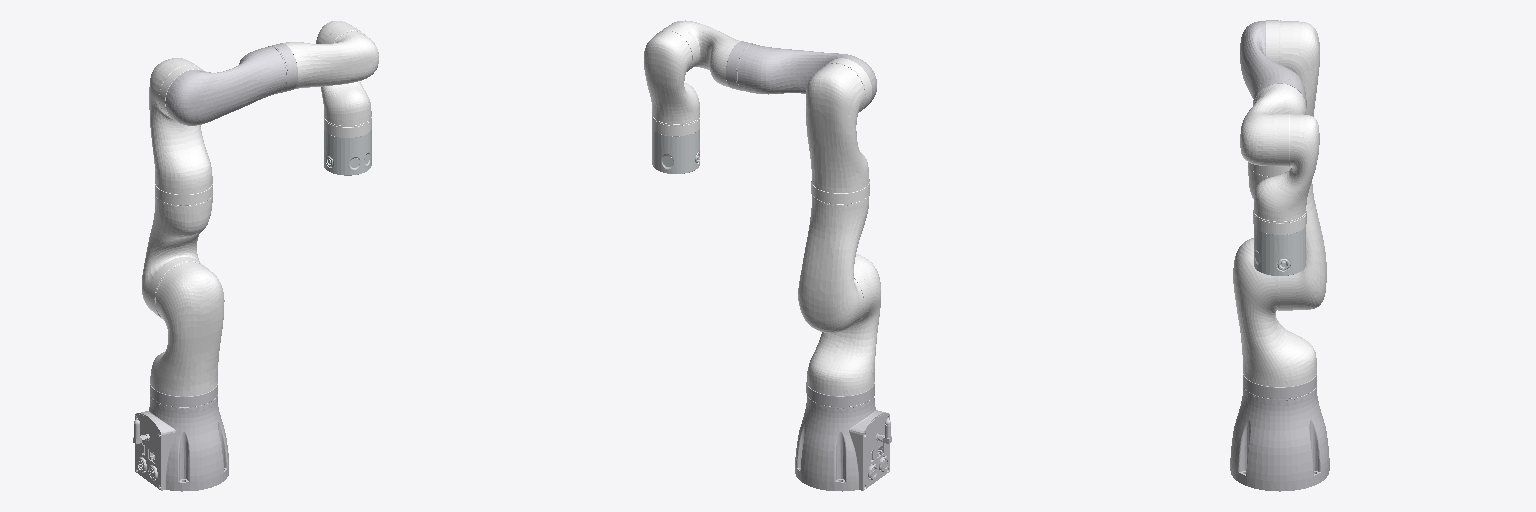
robot.urdf — TCB705_05N_urdf:
<?xml version="1.0" encoding="utf-8"?>
<!-- This URDF was automatically created by SolidWorks to URDF Exporter! Originally created by Stephen Brawner (brawner@gmail.com) 
     Commit Version: 1.6.0-1-g15f4949  Build Version: 1.6.7594.29634
     For more information, please see http://wiki.ros.org/sw_urdf_exporter -->
<robot
  name="TCB705_05N_urdf">
 <mujoco>
    <compiler meshdir="../meshes/" discardvisual="false"/>
 </mujoco>
  <link
    name="tl_robot_link0">
    <inertial>
      <origin
        xyz="0.0018902 -3.6902E-05 0.048157"
        rpy="0 0 0" />
      <mass
        value="0.43435" />
      <inertia
        ixx="0.00088719"
        ixy="7.0508E-09"
        ixz="3.8148E-05"
        iyy="0.00076562"
        iyz="1.1569E-07"
        izz="0.00087763" />
    </inertial>
    <visual>
      <origin
        xyz="0 0 0"
        rpy="0 0 0" />
      <geometry>
        <mesh
          filename="package://TCB705_05N_urdf/meshes/tl_robot_link0.STL" />
      </geometry>
      <material
        name="">
        <color
          rgba="0.86667 0.86667 0.8902 1" />
      </material>
    </visual>
    <collision>
      <origin
        xyz="0 0 0"
        rpy="0 0 0" />
      <geometry>
        <mesh
          filename="package://TCB705_05N_urdf/meshes/tl_robot_link0.STL" />
      </geometry>
    </collision>
  </link>
  <link
    name="tl_robot_link1">
    <inertial>
      <origin
        xyz="3.7218E-06 -0.014376 0.067933"
        rpy="0 0 0" />
      <mass
        value="0.14367" />
      <inertia
        ixx="0.00037046"
        ixy="1.6893E-08"
        ixz="-4.6083E-08"
        iyy="0.00039142"
        iyz="5.9077E-05"
        izz="0.00015862" />
    </inertial>
    <visual>
      <origin
        xyz="0 0 0"
        rpy="0 0 0" />
      <geometry>
        <mesh
          filename="package://TCB705_05N_urdf/meshes/tl_robot_link1.STL" />
      </geometry>
      <material
        name="">
        <color
          rgba="1 1 1 1" />
      </material>
    </visual>
    <collision>
      <origin
        xyz="0 0 0"
        rpy="0 0 0" />
      <geometry>
        <mesh
          filename="package://TCB705_05N_urdf/meshes/tl_robot_link1.STL" />
      </geometry>
    </collision>
  </link>
  <joint
    name="tl_robot_joint1"
    type="revolute">
    <origin
      xyz="0 0 0.1224"
      rpy="0 0 0" />
    <parent
      link="tl_robot_link0" />
    <child
      link="tl_robot_link1" />
    <axis
      xyz="0 0 1" />
    <limit
      lower="-3.141592654"
      upper="3.141592654"
      effort="0"
      velocity="0" />
  </joint>
  <link
    name="tl_robot_link2">
    <inertial>
      <origin
        xyz="5.9053E-06 -0.055346 0.0035842"
        rpy="0 0 0" />
      <mass
        value="0.33033" />
      <inertia
        ixx="0.00090573"
        ixy="1.3641E-08"
        ixz="-3.5043E-08"
        iyy="0.0003177"
        iyz="-0.00017413"
        izz="0.00093478" />
    </inertial>
    <visual>
      <origin
        xyz="0 0 0"
        rpy="0 0 0" />
      <geometry>
        <mesh
          filename="package://TCB705_05N_urdf/meshes/tl_robot_link2.STL" />
      </geometry>
      <material
        name="">
        <color
          rgba="1 1 1 1" />
      </material>
    </visual>
    <collision>
      <origin
        xyz="0 0 0"
        rpy="0 0 0" />
      <geometry>
        <mesh
          filename="package://TCB705_05N_urdf/meshes/tl_robot_link2.STL" />
      </geometry>
    </collision>
  </link>
  <joint
    name="tl_robot_joint2"
    type="revolute">
    <origin
      xyz="0 0.0155 0.1196"
      rpy="-1.5708 0 0" />
    <parent
      link="tl_robot_link1" />
    <child
      link="tl_robot_link2" />
    <axis
      xyz="0 0 1" />
    <limit
      lower="-2.35619449"
      upper="2.35619449"
      effort="0"
      velocity="0" />
  </joint>
  <link
    name="tl_robot_link3">
    <inertial>
      <origin
        xyz="-0.000132757352653707 0.0133462171351898 0.0637589760194879"
        rpy="0 0 0" />
      <mass
        value="0.302012540986821" />
      <inertia
        ixx="0.000691869705790603"
        ixy="-5.09561031816092E-07"
        ixz="2.6670085177538E-06"
        iyy="0.000719388437057822"
        iyz="-0.000114231544456731"
        izz="0.000253132686095938" />
    </inertial>
    <visual>
      <origin
        xyz="0 0 0"
        rpy="0 0 0" />
      <geometry>
        <mesh
          filename="package://TCB705_05N_urdf/meshes/tl_robot_link3.STL" />
      </geometry>
      <material
        name="">
        <color
          rgba="1 1 1 1" />
      </material>
    </visual>
    <collision>
      <origin
        xyz="0 0 0"
        rpy="0 0 0" />
      <geometry>
        <mesh
          filename="package://TCB705_05N_urdf/meshes/tl_robot_link3.STL" />
      </geometry>
    </collision>
  </link>
  <joint
    name="tl_robot_joint3"
    type="revolute">
    <origin
      xyz="0 -0.149 -0.0155"
      rpy="1.5708 0 0" />
    <parent
      link="tl_robot_link2" />
    <child
      link="tl_robot_link3" />
    <axis
      xyz="0 0 1" />
    <limit
      lower="-3.141592654"
      upper="3.141592654"
      effort="0"
      velocity="0" />
  </joint>
  <link
    name="tl_robot_link4">
    <inertial>
      <origin
        xyz="-1.1919E-05 0.056456 0.00097888"
        rpy="0 0 0" />
      <mass
        value="0.24893" />
      <inertia
        ixx="0.0005647"
        ixy="8.1382E-08"
        ixz="-3.1473E-09"
        iyy="0.00016557"
        iyz="0.00010863"
        izz="0.00057614" />
    </inertial>
    <visual>
      <origin
        xyz="0 0 0"
        rpy="0 0 0" />
      <geometry>
        <mesh
          filename="package://TCB705_05N_urdf/meshes/tl_robot_link4.STL" />
      </geometry>
      <material
        name="">
        <color
          rgba="0.86667 0.86667 0.8902 1" />
      </material>
    </visual>
    <collision>
      <origin
        xyz="0 0 0"
        rpy="0 0 0" />
      <geometry>
        <mesh
          filename="package://TCB705_05N_urdf/meshes/tl_robot_link4.STL" />
      </geometry>
    </collision>
  </link>
  <joint
    name="tl_robot_joint4"
    type="revolute">
    <origin
      xyz="0 -0.0165 0.121"
      rpy="1.5708 1.5708 0" />
    <parent
      link="tl_robot_link3" />
    <child
      link="tl_robot_link4" />
    <axis
      xyz="0 0 -1" />
    <limit
      lower="-4.101523742"
      upper="0.959931089"
      effort="0"
      velocity="0" />
  </joint>
  <link
    name="tl_robot_link5">
    <inertial>
      <origin
        xyz="7.3099E-05 -0.01274 0.050866"
        rpy="0 0 0" />
      <mass
        value="0.074325" />
      <inertia
        ixx="9.8328E-05"
        ixy="1.1534E-08"
        ixz="8.0626E-10"
        iyy="0.00010098"
        iyz="2.0685E-05"
        izz="4.5428E-05" />
    </inertial>
    <visual>
      <origin
        xyz="0 0 0"
        rpy="0 0 0" />
      <geometry>
        <mesh
          filename="package://TCB705_05N_urdf/meshes/tl_robot_link5.STL" />
      </geometry>
      <material
        name="">
        <color
          rgba="1 1 1 1" />
      </material>
    </visual>
    <collision>
      <origin
        xyz="0 0 0"
        rpy="0 0 0" />
      <geometry>
        <mesh
          filename="package://TCB705_05N_urdf/meshes/tl_robot_link5.STL" />
      </geometry>
    </collision>
  </link>
  <joint
    name="tl_robot_joint5"
    type="revolute">
    <origin
      xyz="0 0.1425 -0.0165"
      rpy="-1.5708 0 0" />
    <parent
      link="tl_robot_link4" />
    <child
      link="tl_robot_link5" />
    <axis
      xyz="0 0 1" />
    <limit
      lower="-3.141592654"
      upper="3.141592654"
      effort="0"
      velocity="0" />
  </joint>
  <link
    name="tl_robot_link6">
    <inertial>
      <origin
        xyz="2.8242E-06 -0.038846 0.0038434"
        rpy="0 0 0" />
      <mass
        value="0.066035" />
      <inertia
        ixx="8.4574E-05"
        ixy="-2.4508E-08"
        ixz="-1.1793E-08"
        iyy="4.1686E-05"
        iyz="-1.7128E-05"
        izz="8.4254E-05" />
    </inertial>
    <visual>
      <origin
        xyz="0 0 0"
        rpy="0 0 0" />
      <geometry>
        <mesh
          filename="package://TCB705_05N_urdf/meshes/tl_robot_link6.STL" />
      </geometry>
      <material
        name="">
        <color
          rgba="1 1 1 1" />
      </material>
    </visual>
    <collision>
      <origin
        xyz="0 0 0"
        rpy="0 0 0" />
      <geometry>
        <mesh
          filename="package://TCB705_05N_urdf/meshes/tl_robot_link6.STL" />
      </geometry>
    </collision>
  </link>
  <joint
    name="tl_robot_joint6"
    type="revolute">
    <origin
      xyz="0 0.0115 0.0875"
      rpy="-1.5708 1.5708 0" />
    <parent
      link="tl_robot_link5" />
    <child
      link="tl_robot_link6" />
    <axis
      xyz="0 0 1" />
    <limit
      lower="-3.752457892"
      upper="0.610865238"
      effort="0"
      velocity="0" />
  </joint>
  <link
    name="tl_robot_link7">
    <inertial>
      <origin
        xyz="-1.0794E-05 -0.00010862 0.02885"
        rpy="0 0 0" />
      <mass
        value="0.16704" />
      <inertia
        ixx="8.1122E-05"
        ixy="2.2269E-07"
        ixz="-4.7782E-09"
        iyy="8.2788E-05"
        iyz="1.8211E-07"
        izz="9.2705E-05" />
    </inertial>
    <visual>
      <origin
        xyz="0 0 0"
        rpy="0 0 0" />
      <geometry>
        <mesh
          filename="package://TCB705_05N_urdf/meshes/tl_robot_link7.STL" />
      </geometry>
      <material
        name="">
        <color
          rgba="0.89804 0.91765 0.92941 1" />
      </material>
    </visual>
    <collision>
      <origin
        xyz="0 0 0"
        rpy="0 0 0" />
      <geometry>
        <mesh
          filename="package://TCB705_05N_urdf/meshes/tl_robot_link7.STL" />
      </geometry>
    </collision>
  </link>
  <joint
    name="tl_robot_joint7"
    type="revolute">
    <origin
      xyz="0 -0.1015 -0.0115"
      rpy="1.5708 0 0" />
    <parent
      link="tl_robot_link6" />
    <child
      link="tl_robot_link7" />
    <axis
      xyz="0 0 1" />
    <limit
      lower="-3.141592654"
      upper="3.141592654"
      effort="0"
      velocity="0" />
  </joint>

  <!-- 修正末端180度偏差的虚拟关节和连杆 -->
  <joint
      name="tl_robot_joint_end"
      type="fixed">
      <origin
          xyz="0 0 0"
          rpy="0 0 -3.141592654" />  <!-- 绕Z轴旋转180度修正 -->
      <parent
          link="tl_robot_link7" />
      <child
          link="tl_robot_link_end" />
      <axis
          xyz="0 0 1" />
  </joint>

  <link
      name="tl_robot_link_end">
      <inertial>
          <origin
              xyz="0 0 0"
              rpy="0 0 0" />
          <mass
              value="0.001" />
          <inertia
              ixx="1e-6"
              ixy="0"
              ixz="0"
              iyy="1e-6"
              iyz="0"
              izz="1e-6" />
      </inertial>
      <visual>
          <origin
              xyz="0 0 0"
              rpy="0 0 0" />
          <geometry>
              <box size="0.01 0.01 0.01" />  <!-- 小方块用于可视化 -->
          </geometry>
          <material
              name="eef_color">
              <color
                  rgba="1 0 0 0.5" />  <!-- 红色半透明 -->
          </material>
      </visual>
      <collision>
          <origin
              xyz="0 0 0"
              rpy="0 0 0" />
          <geometry>
              <box size="0.001 0.001 0.001" />  <!-- 很小的碰撞体 -->
          </geometry>
      </collision>
  </link>
</robot>

--- What the picture shows (computed from the rendered views, not written in the file) ---
Views: 3 orthographic renders of the robot side by side, from view 1: azimuth 30°, elevation 25°; view 2: azimuth 150°, elevation 25°; view 3: azimuth 270°, elevation 25°.
Robot: TCB705_05N_urdf — 9 links, 8 joints (7 revolute, 1 fixed); root link tl_robot_link0; default pose: all joints at 0.
Links seen in each view (by area): view 1: tl_robot_link1, tl_robot_link0, tl_robot_link4, tl_robot_link3, tl_robot_link2, tl_robot_link5, tl_robot_link6, tl_robot_link7; view 2: tl_robot_link0, tl_robot_link2, tl_robot_link3, tl_robot_link1, tl_robot_link6, tl_robot_link4, tl_robot_link5, tl_robot_link7; view 3: tl_robot_link0, tl_robot_link1, tl_robot_link6, tl_robot_link5, tl_robot_link2, tl_robot_link3, tl_robot_link4, tl_robot_link7.
Link boxes in pixels (box(x1,y1,x2,y2)): tl_robot_link1: box(149, 257, 224, 396); tl_robot_link0: box(133, 384, 228, 491); tl_robot_link4: box(165, 43, 297, 125); tl_robot_link3: box(149, 58, 212, 194); tl_robot_link2: box(142, 184, 212, 311); tl_robot_link5: box(283, 26, 378, 88); tl_robot_link6: box(316, 21, 371, 137); tl_robot_link7: box(324, 130, 371, 175); tl_robot_link0: box(795, 382, 891, 491); tl_robot_link2: box(798, 181, 869, 332); tl_robot_link3: box(806, 58, 871, 192); tl_robot_link1: box(807, 254, 880, 395); tl_robot_link6: box(644, 31, 699, 136); tl_robot_link4: box(726, 41, 876, 104); tl_robot_link5: box(656, 20, 740, 86); tl_robot_link7: box(652, 128, 699, 173); tl_robot_link0: box(1230, 374, 1329, 491); tl_robot_link1: box(1233, 238, 1316, 386); tl_robot_link6: box(1253, 114, 1319, 234); tl_robot_link5: box(1240, 84, 1305, 166); tl_robot_link2: box(1248, 162, 1326, 309); tl_robot_link3: box(1266, 20, 1319, 116); tl_robot_link4: box(1240, 21, 1306, 107); tl_robot_link7: box(1254, 227, 1305, 275).
Bounding box of the posed robot: 0.3295 × 0.1099 × 0.5464 m (x, y, z).
8 mesh visuals loaded from 8 distinct referenced files (8 binary STL).
